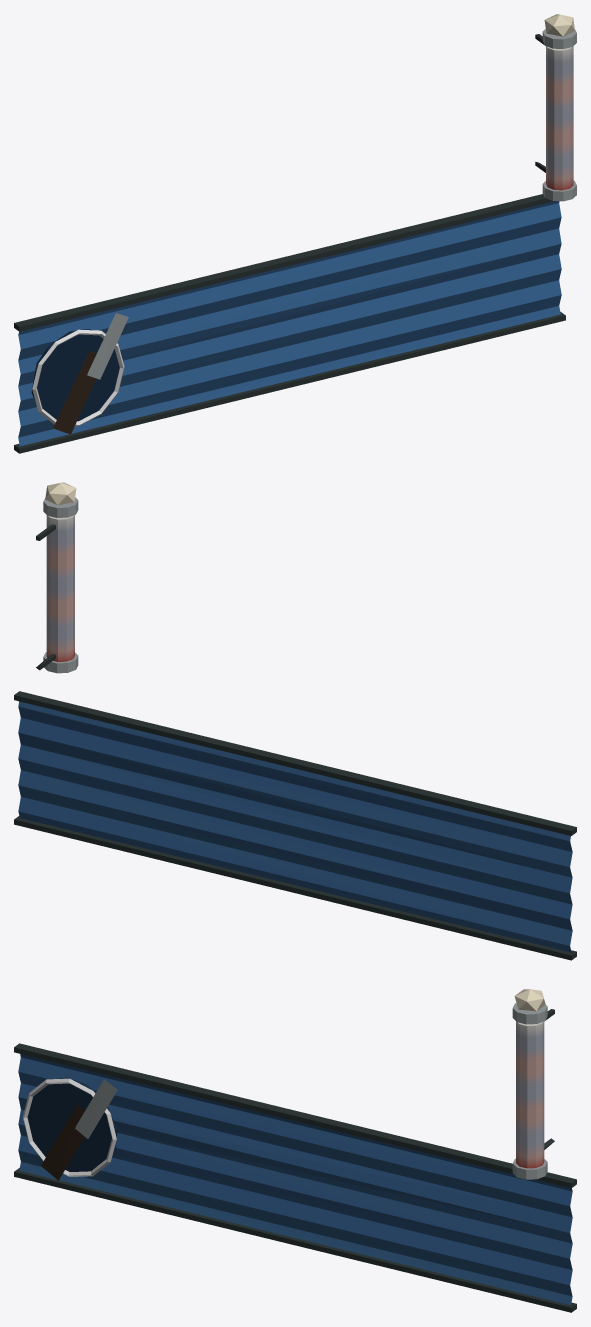
The model's file is bang_hot_toc_binh_dan_60.glb.
3 views of the same model, one above another, from view 1: azimuth 30°, elevation 25°; view 2: azimuth 150°, elevation 25°; view 3: azimuth 330°, elevation 25° (orthographic). The views are drawn at different scales.
Parts seen in each view (by area): view 1: bang_hot_toc_binh_dan_60; view 2: bang_hot_toc_binh_dan_60; view 3: bang_hot_toc_binh_dan_60.
Boxes of the visible parts, x1,y1,x2,y2 form: bang_hot_toc_binh_dan_60: [14, 14, 576, 453]; bang_hot_toc_binh_dan_60: [14, 482, 576, 960]; bang_hot_toc_binh_dan_60: [14, 989, 576, 1312].
Size of the model in its own units: 5.86 by 3.32 by 0.5722.
